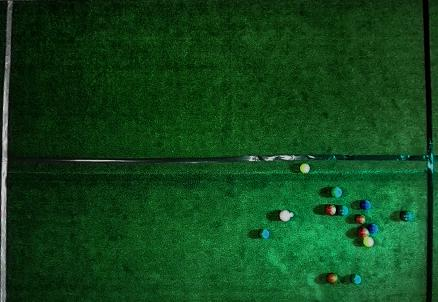blue: (367, 224, 378, 234), (361, 200, 371, 210)
green: (330, 187, 343, 198), (401, 211, 412, 222), (337, 205, 348, 216), (351, 274, 361, 285), (259, 229, 269, 239)
red: (326, 273, 338, 284), (357, 227, 369, 238), (278, 210, 290, 221), (324, 205, 336, 215), (354, 215, 365, 224)
vline: (0, 0, 16, 301), (422, 0, 437, 301)
white: (290, 212, 294, 217)
yellow: (363, 237, 374, 247), (300, 163, 310, 173)
